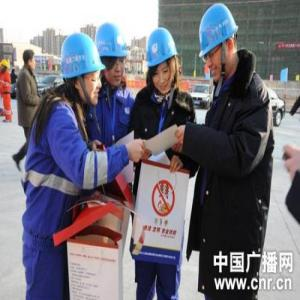blue: (63, 32, 103, 108), (200, 5, 239, 82), (147, 26, 181, 96), (96, 21, 127, 88)
none: (23, 48, 37, 76)
yellow: (2, 58, 10, 74)
